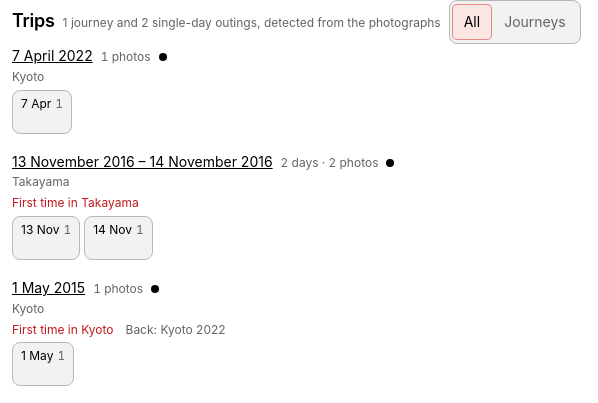
Test: what the timeline says about a trip › can narrow the list to journeys
This screenshot has width=598, height=403.
Expected: the link "1 May 2015" is shown, [12,280,85,297]
Step 1. Click the radio button labelled "Journeys" → coordinates (535, 22), box [492,4,578,40]
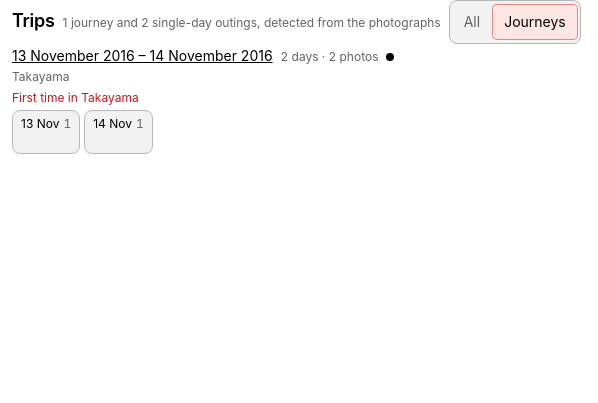
Expected: the link "13 November 2016 – 14 November 2016" is shown, [12,48,273,65]
Expected: the link "1 May 2015" is gone
